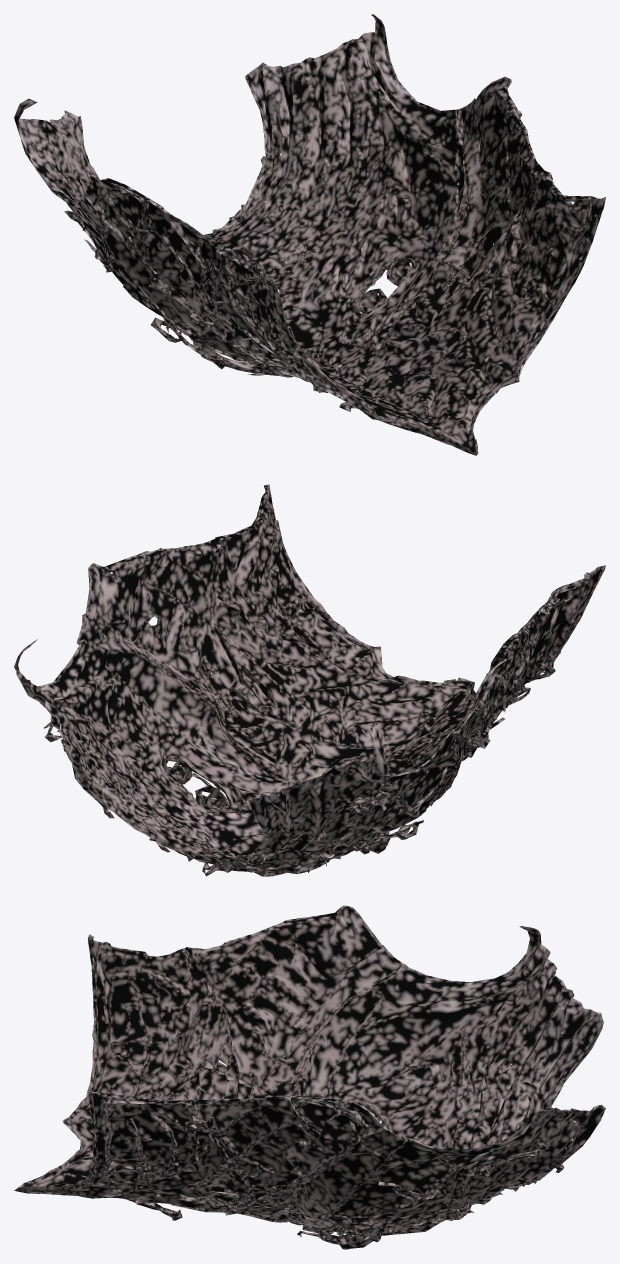
File: vampire_chestplate_LOD0.glb
3 renders of one model, top to bottom at view 1: azimuth 30°, elevation 25°; view 2: azimuth 150°, elevation 25°; view 3: azimuth 270°, elevation 25°, orthographic. The views are drawn at different scales.
Parts seen in each view (by area): view 1: vampire_chestplate_LOD0; view 2: vampire_chestplate_LOD0; view 3: vampire_chestplate_LOD0.
Part boxes in pixels (x1,y1,x2,y2): vampire_chestplate_LOD0: (14, 14, 605, 455); vampire_chestplate_LOD0: (14, 484, 605, 876); vampire_chestplate_LOD0: (14, 905, 605, 1249).
Bounding box in the file's own units: 0.5929 × 0.3327 × 0.7733.
1 material, 1 textured.
